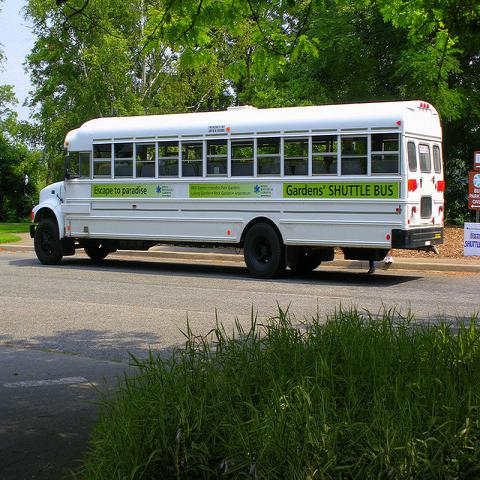bus: (30, 101, 444, 278)
